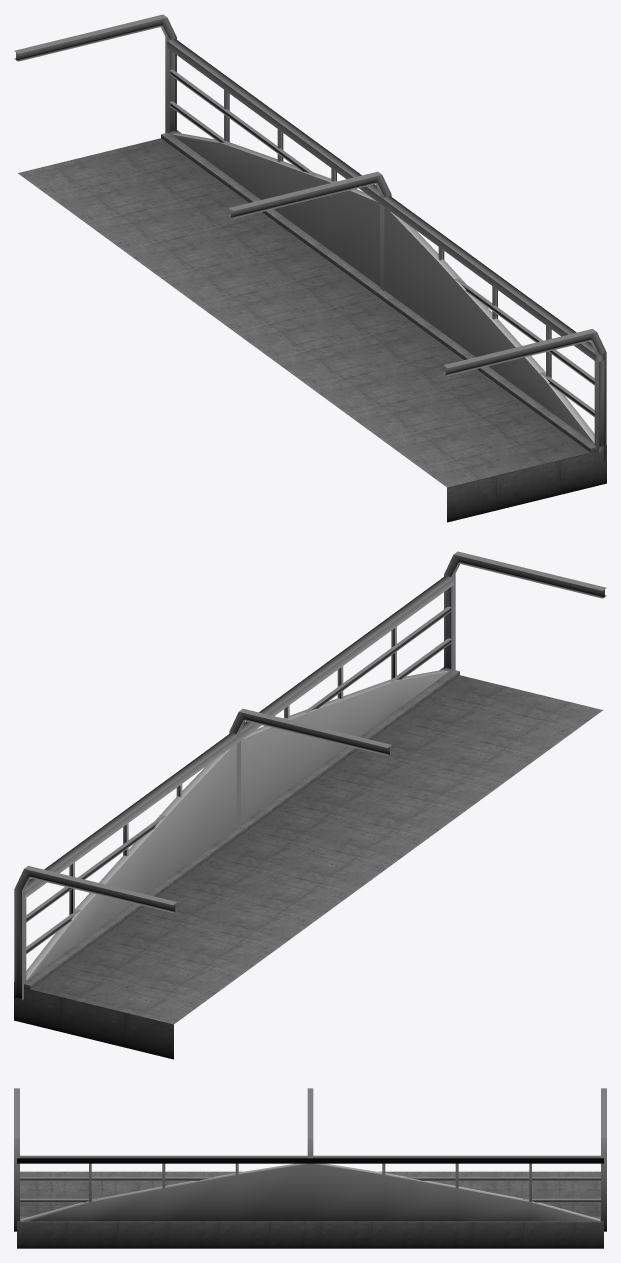
The model's file is AMB_IZM_O2_SIDE.glb.
The picture shows the model from 3 angles, top to bottom: view 1: azimuth 30°, elevation 25°; view 2: azimuth 150°, elevation 25°; view 3: azimuth 270°, elevation 25°; orthographic projection. The views are drawn at different scales.
Visible parts, largest first — view 1: BASE, J08, J00, J04; view 2: BASE, J00, J08, J04; view 3: BASE, J08, J00, J04.
Boxes of the visible parts, x1=… form: BASE: x1=18, y1=39, x2=606, y2=522; J08: x1=444, y1=329, x2=606, y2=463; J00: x1=14, y1=14, x2=176, y2=133; J04: x1=229, y1=171, x2=391, y2=290; BASE: x1=14, y1=576, x2=602, y2=1059; J00: x1=14, y1=866, x2=176, y2=1000; J08: x1=444, y1=551, x2=606, y2=670; J04: x1=229, y1=708, x2=391, y2=827; BASE: x1=17, y1=1155, x2=603, y2=1248; J08: x1=14, y1=1088, x2=19, y2=1231; J00: x1=601, y1=1088, x2=606, y2=1231; J04: x1=307, y1=1088, x2=313, y2=1158.
Size of the model in its own units: 21.7 by 20.06 by 101.
Materials: 11 (11 with a texture image).
